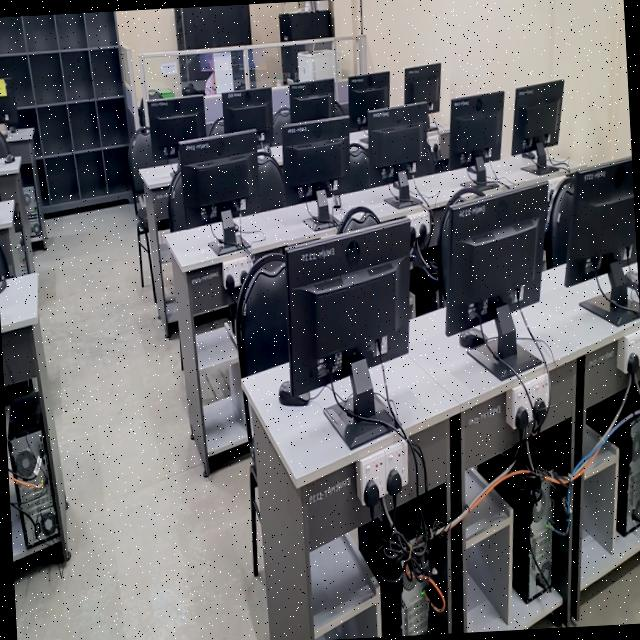Chair: (235, 252, 288, 375), (436, 186, 483, 303), (543, 177, 573, 267), (243, 150, 284, 213), (128, 125, 158, 202), (334, 143, 369, 193), (167, 168, 186, 230), (337, 206, 379, 231), (271, 106, 290, 145), (208, 116, 223, 133)
Cpu: (6, 399, 58, 547), (395, 531, 433, 636), (527, 483, 551, 599), (626, 417, 640, 529), (336, 248, 347, 271), (324, 257, 331, 273), (332, 258, 336, 270)
Monitor: (279, 219, 410, 395), (437, 180, 548, 335), (564, 155, 637, 286), (179, 129, 259, 227), (367, 101, 433, 185), (281, 118, 349, 196), (448, 90, 503, 184), (511, 79, 563, 166), (148, 94, 206, 162), (221, 87, 272, 139), (347, 70, 389, 129), (288, 78, 335, 122), (403, 62, 440, 111), (0, 78, 17, 125)
Mouse: (278, 380, 308, 405), (459, 328, 484, 348), (624, 268, 639, 291), (333, 194, 341, 207), (0, 276, 6, 291)
